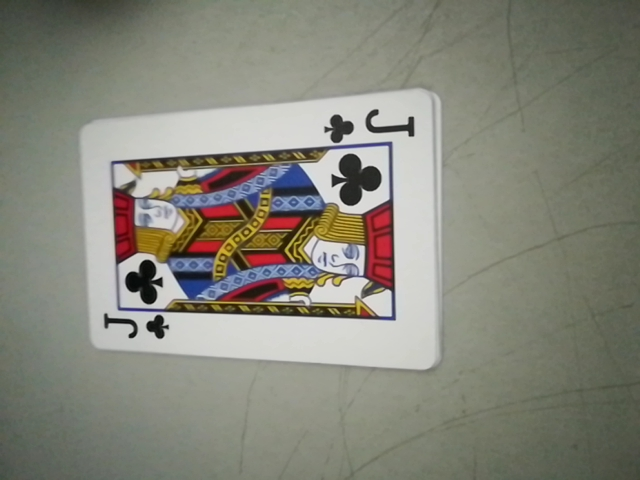mh j: (320, 104, 419, 146), (98, 308, 175, 349)
